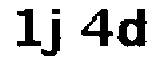1: (12, 7, 45, 48)
4: (78, 5, 115, 50)
d: (118, 5, 152, 52)
j: (41, 2, 68, 60)
